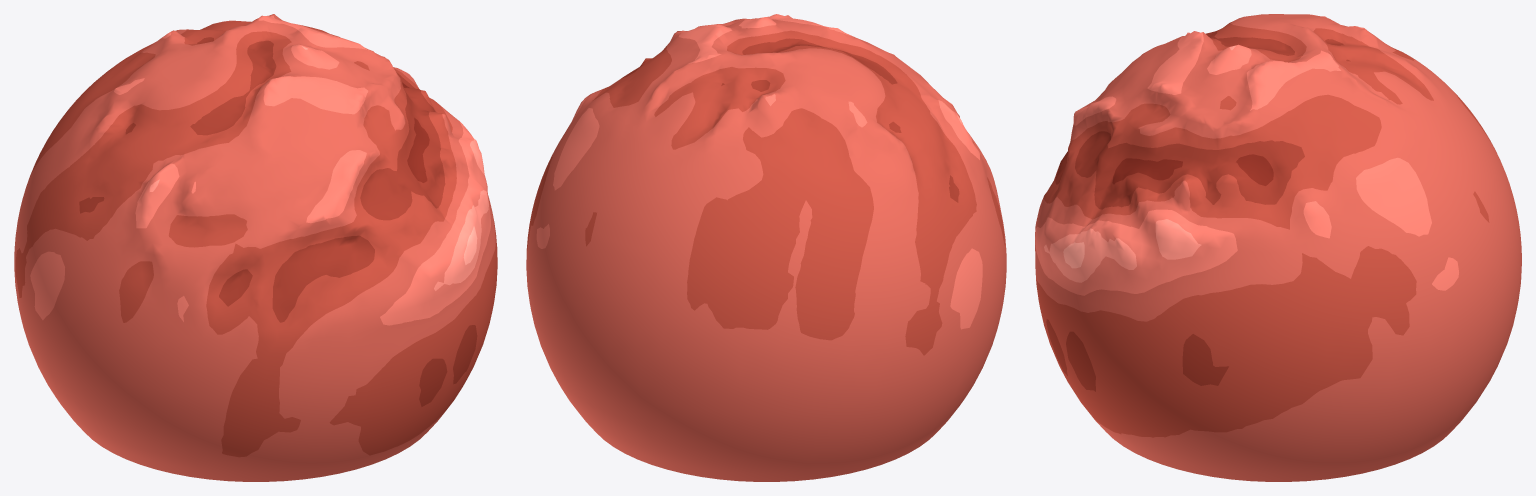
Rendered from shot_xega.glb.
The picture shows the model from 3 angles, left to right: view 1: azimuth 30°, elevation 25°; view 2: azimuth 150°, elevation 25°; view 3: azimuth 270°, elevation 25°; orthographic projection.
Visible parts, largest first — view 1: shot_xega_body; view 2: shot_xega_body; view 3: shot_xega_body.
Boxes of the visible parts, x1,y1,x2,y2 form: shot_xega_body: [14, 14, 497, 481]; shot_xega_body: [526, 14, 1006, 481]; shot_xega_body: [1035, 14, 1521, 481].
Size of the model in its own units: 55.01 by 46.24 by 55.04.
